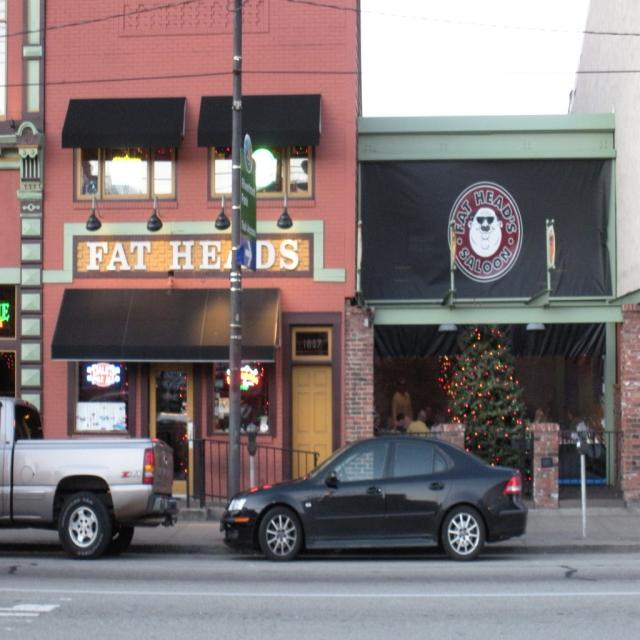car: (220, 430, 529, 557)
